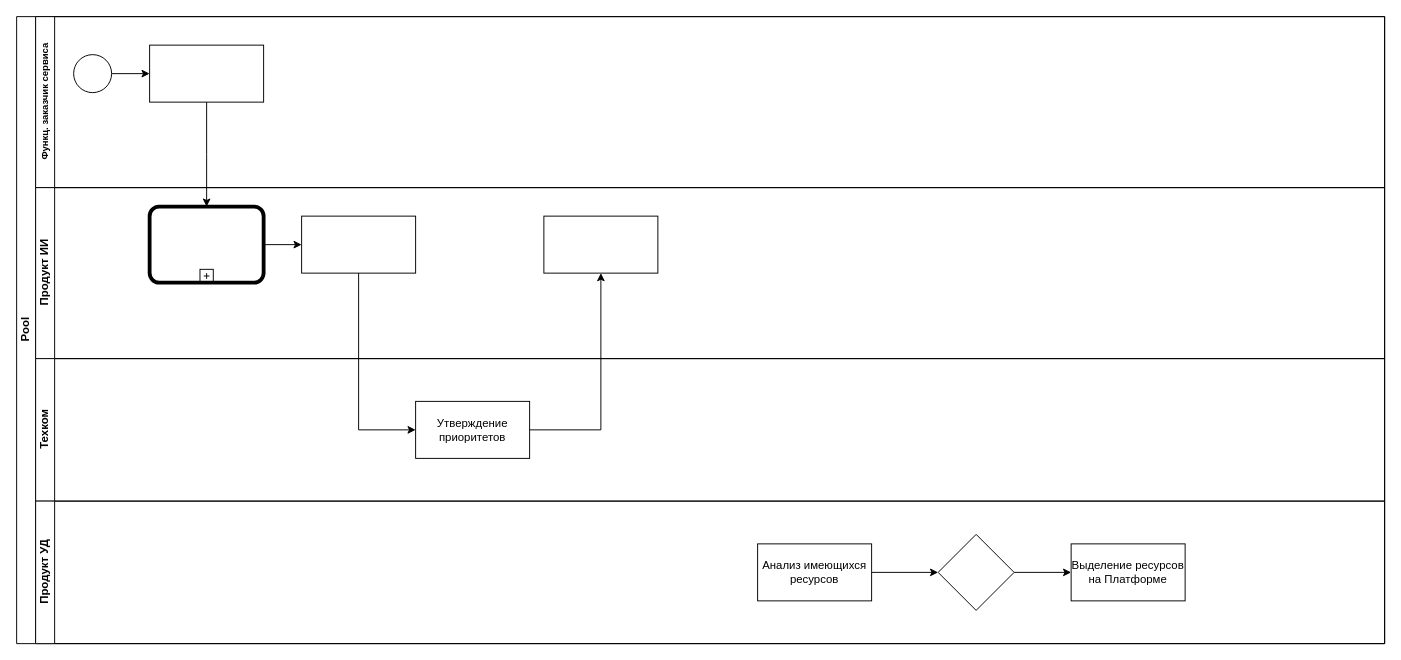
The diagram is 1401 pixels wide and 660 high, and some of its shapes have lost their labels. Each missing label, with the centre of its shape:
Внесение приоритетов в реестр: (600,244)
Внесение сведений в реестр: (206,244)
Подготовка сведение о планируемых сервисах: (206,73)
Приоритезация проектов: (358,244)
